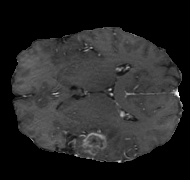Edema: (63, 124, 118, 160)
EnhancingTumors: (80, 130, 107, 152)
Necrosis: (86, 129, 106, 144)
